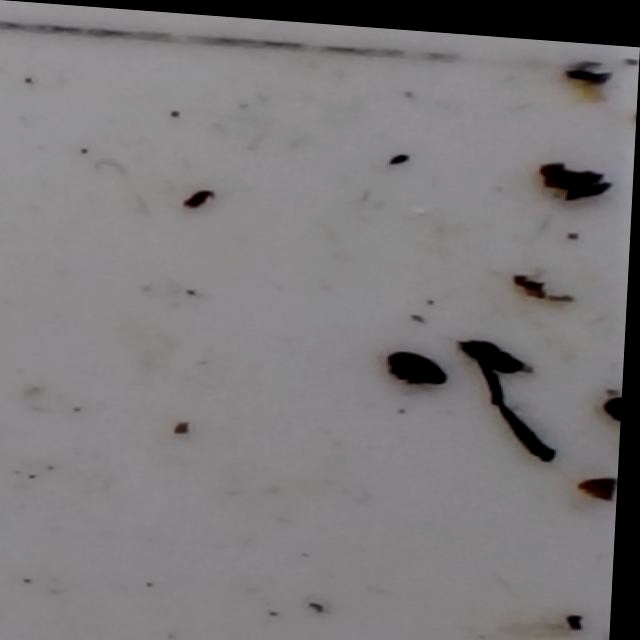varroa: (382, 343, 458, 384), (462, 332, 526, 369), (604, 376, 627, 416)
